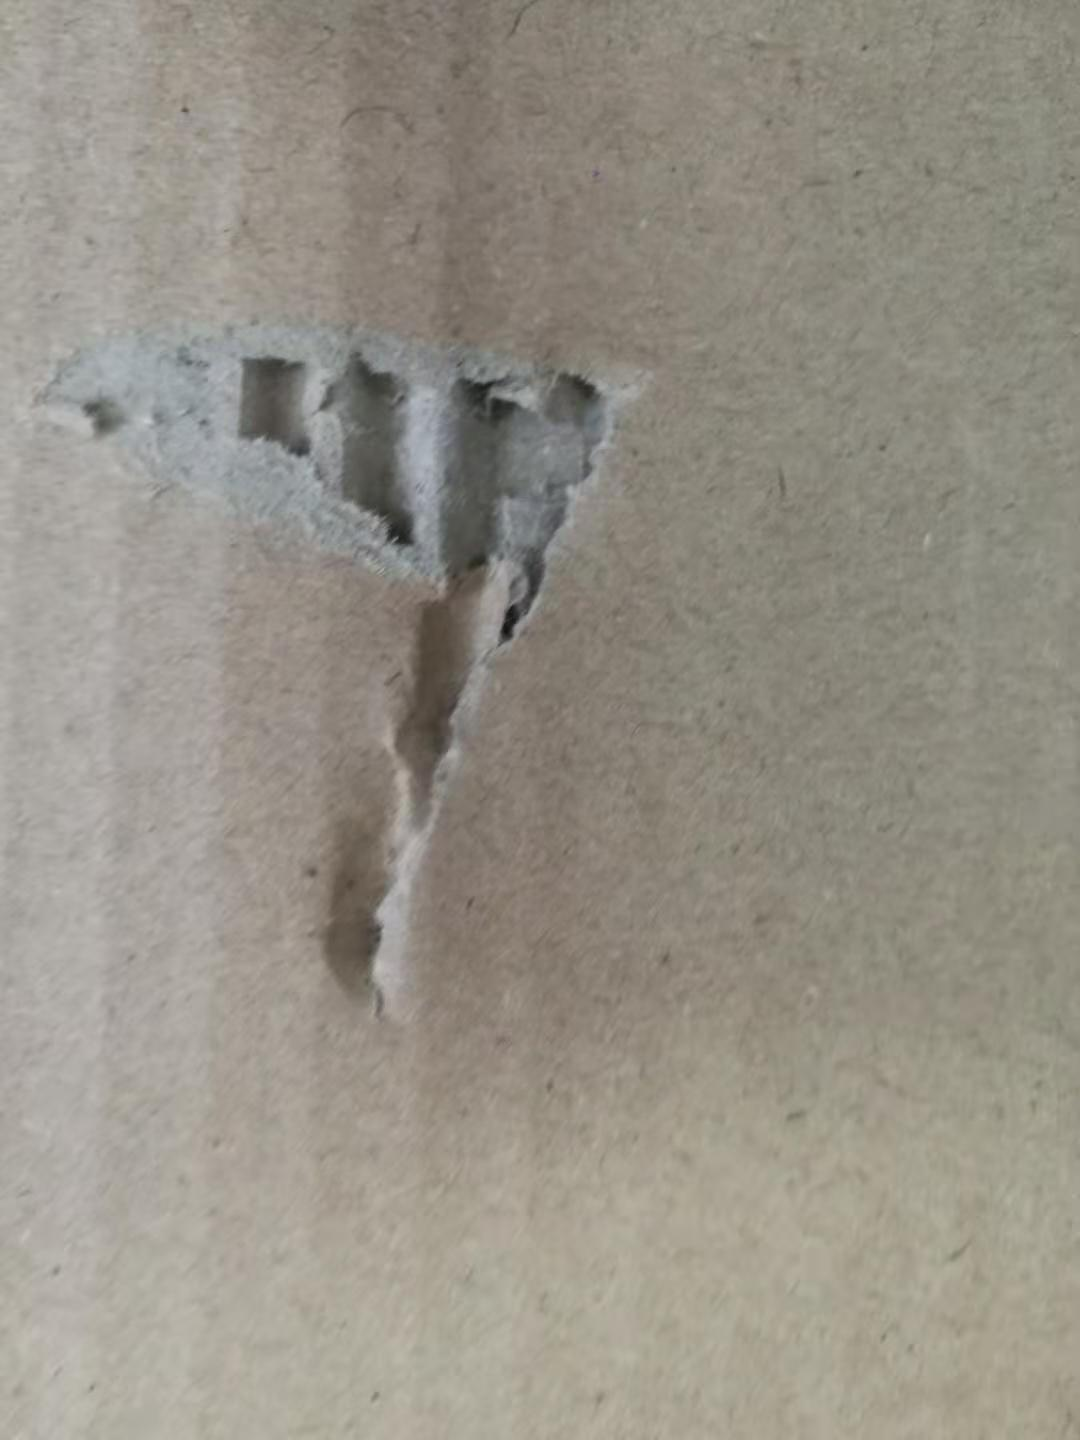defect: (8, 268, 692, 1067)
